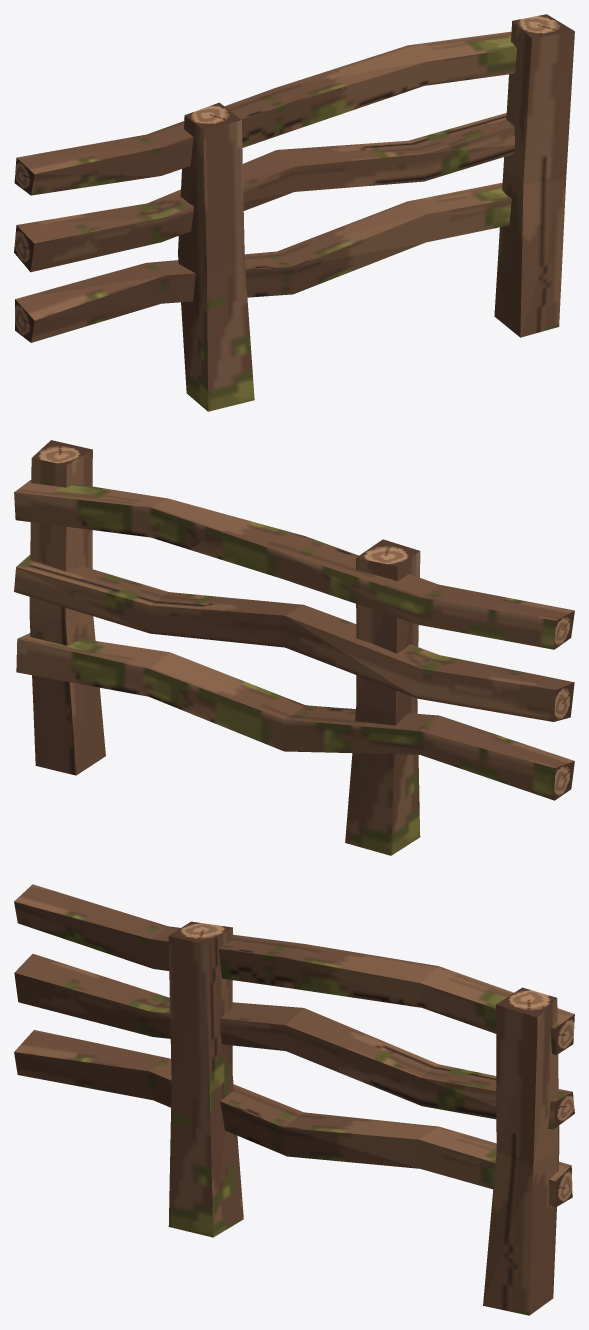
The model's file is SM_ST01_FenceSection.fbx.
3 renders of one model, top to bottom at view 1: azimuth 30°, elevation 25°; view 2: azimuth 150°, elevation 25°; view 3: azimuth 330°, elevation 25°, orthographic. The views are drawn at different scales.
Parts seen in each view (by area): view 1: ST01_Fence; view 2: ST01_Fence; view 3: ST01_Fence.
Boxes of the visible parts, x1,y1,x2,y2 form: ST01_Fence: [14, 14, 574, 411]; ST01_Fence: [14, 440, 574, 855]; ST01_Fence: [14, 884, 574, 1315].
Bounding box in the file's own units: 2.19 × 1.19 × 0.2697.
